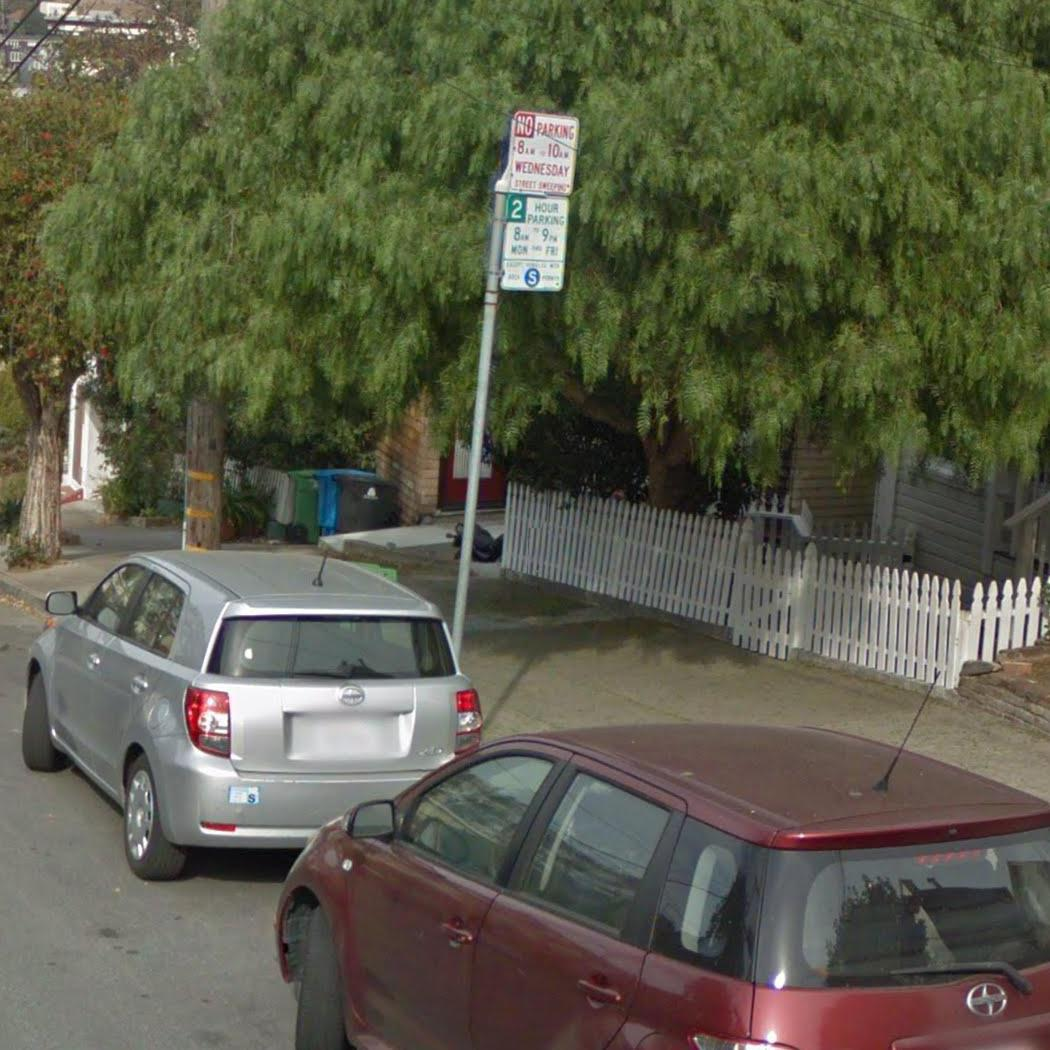2 Hour Parking: (491, 190, 578, 295)
No Parking: (502, 105, 584, 198)
